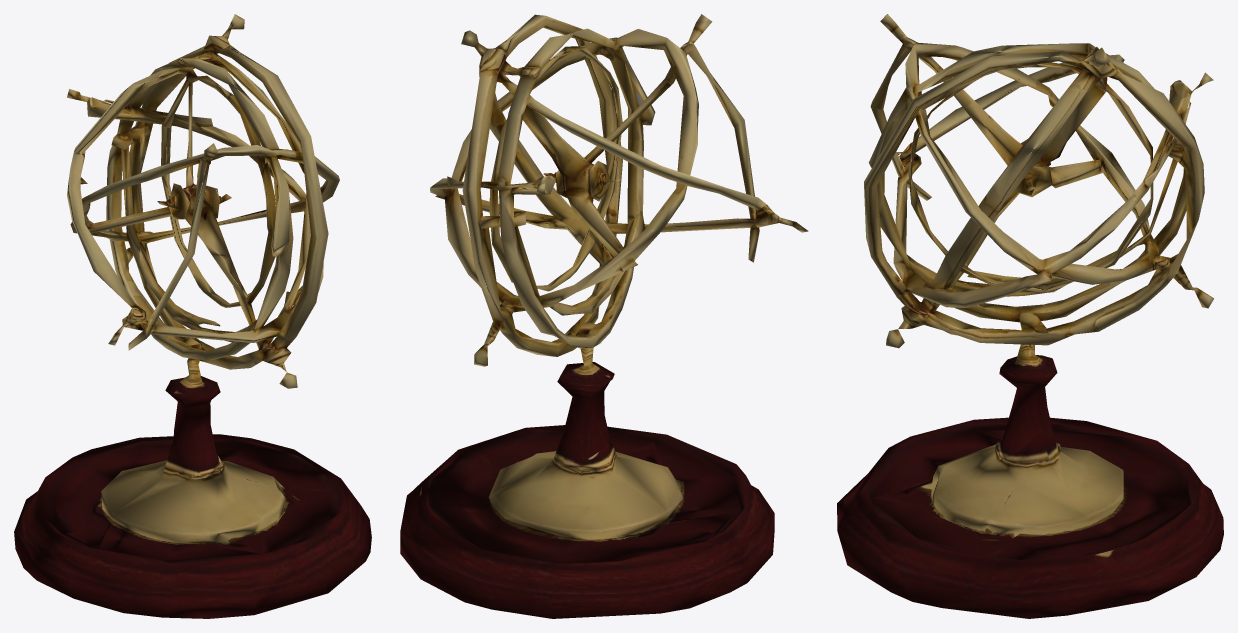
Rendered from globe.glb.
3 views of the same model, side by side, from view 1: azimuth 30°, elevation 25°; view 2: azimuth 150°, elevation 25°; view 3: azimuth 270°, elevation 25° (orthographic). The views are drawn at different scales.
Parts seen in each view (by area): view 1: tripo_node_8d6591cd-5eb4-4822-9575-f3238c3b62d4; view 2: tripo_node_8d6591cd-5eb4-4822-9575-f3238c3b62d4; view 3: tripo_node_8d6591cd-5eb4-4822-9575-f3238c3b62d4.
Boxes of the visible parts, left/top/right/bottom form: tripo_node_8d6591cd-5eb4-4822-9575-f3238c3b62d4: left=14, top=14, right=371, bottom=618; tripo_node_8d6591cd-5eb4-4822-9575-f3238c3b62d4: left=400, top=14, right=808, bottom=618; tripo_node_8d6591cd-5eb4-4822-9575-f3238c3b62d4: left=837, top=14, right=1223, bottom=618.
Size of the model in its own units: 0.6513 by 0.9784 by 0.6462.
1 material, 1 textured.
